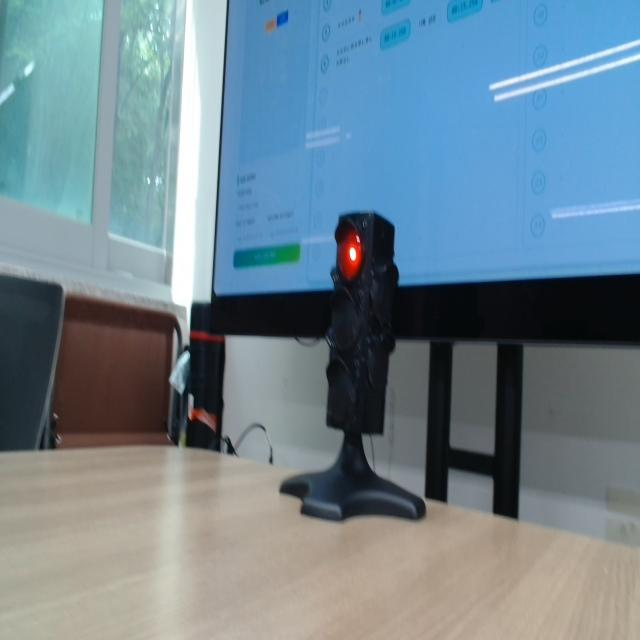red_light: (337, 228, 362, 280)
